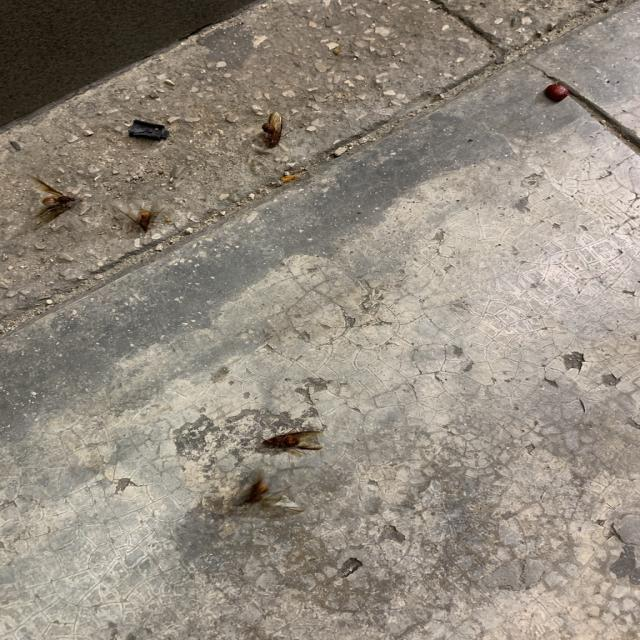Alive-Male-Alate: (27, 173, 86, 219), (113, 200, 174, 242)
Dead-Male-Alate: (236, 471, 304, 515), (254, 426, 324, 458), (258, 111, 297, 149)
